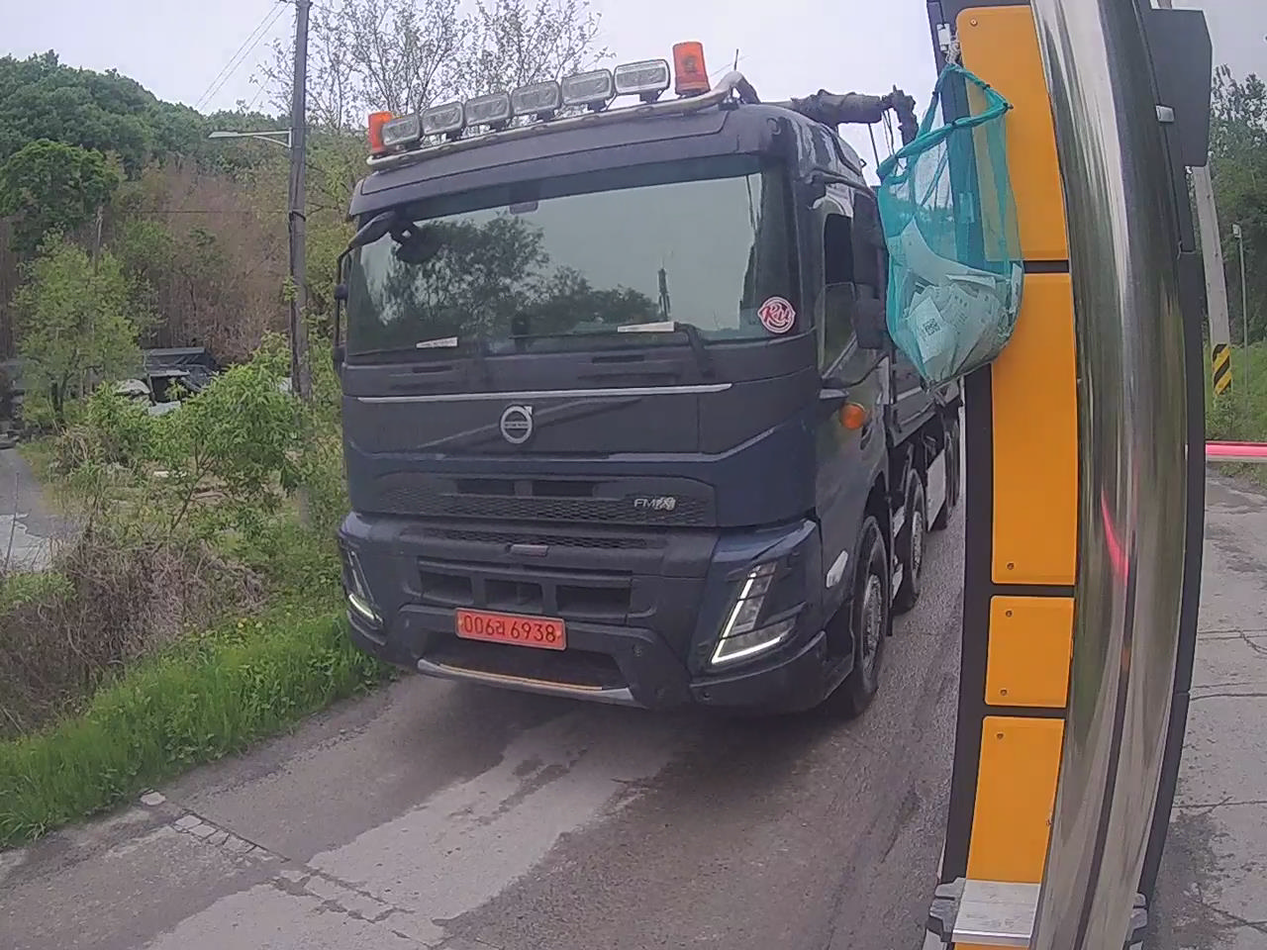license_plate: (455, 610, 564, 649)
truck: (337, 45, 960, 714)
